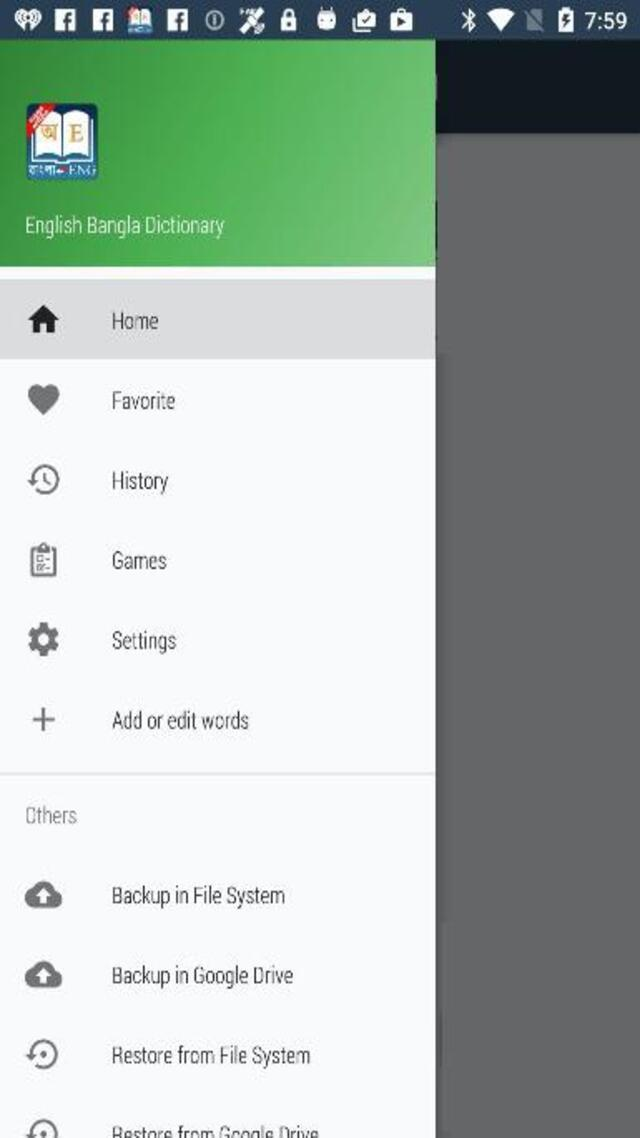Icon: (24, 960, 62, 988), (26, 464, 59, 496), (27, 622, 59, 655), (24, 1040, 59, 1070), (24, 881, 62, 908), (27, 384, 59, 416), (29, 542, 56, 578), (27, 304, 59, 334), (32, 707, 54, 730)
Image: (26, 104, 97, 181), (24, 1118, 56, 1138)
Text: (25, 214, 224, 239), (112, 1044, 310, 1068), (112, 964, 294, 988), (114, 884, 285, 908), (110, 708, 248, 729), (113, 630, 176, 654), (113, 470, 170, 494), (113, 390, 176, 410), (113, 550, 166, 570), (26, 804, 78, 824), (113, 310, 160, 330)
WS3: (110, 1125, 318, 1137)
